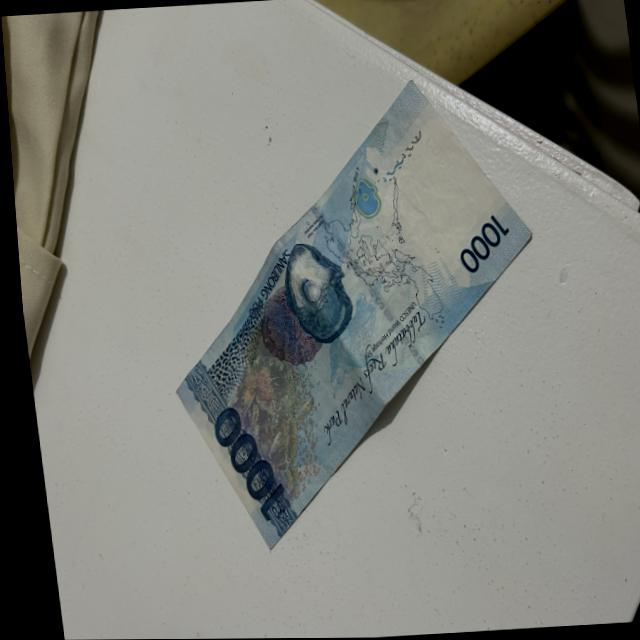1000_pearl: (279, 246, 342, 343)
1000_pearl_watermark: (350, 176, 381, 221)
